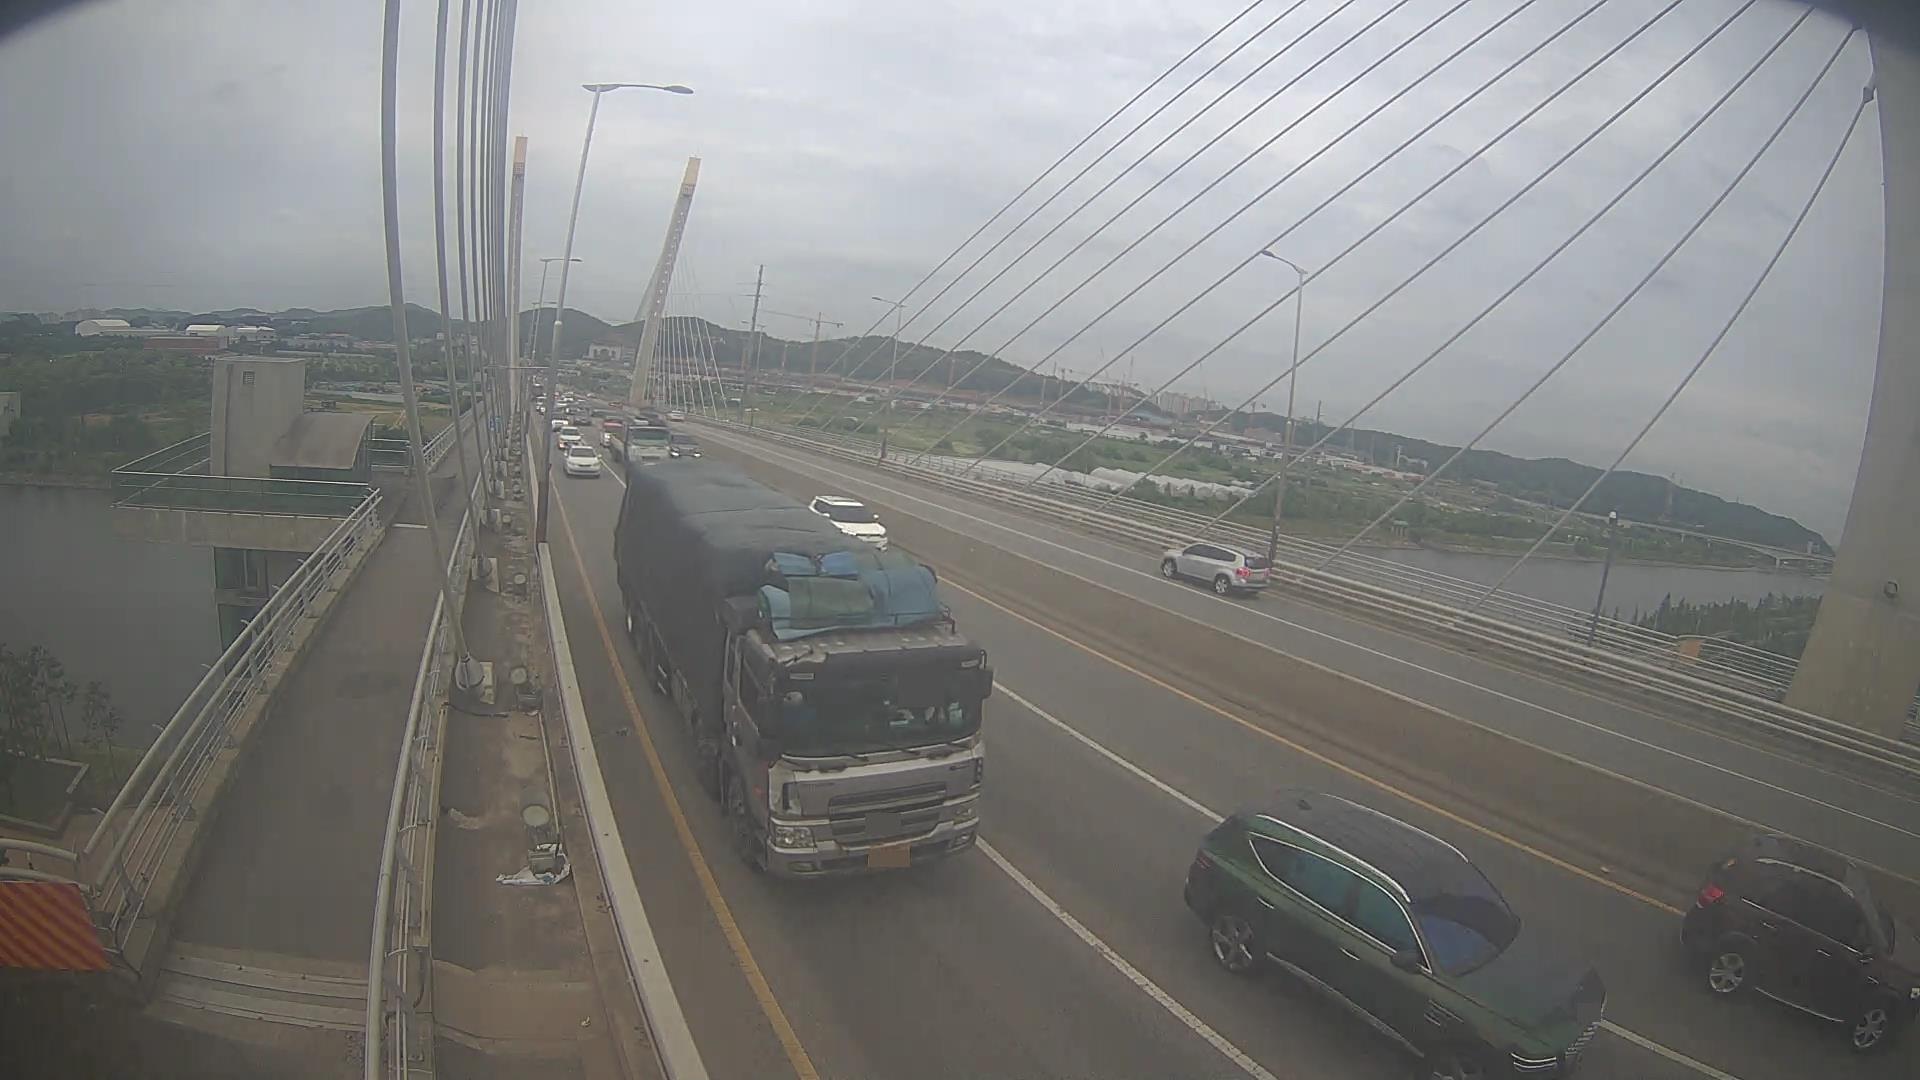정상차량: (613, 456, 994, 882)
